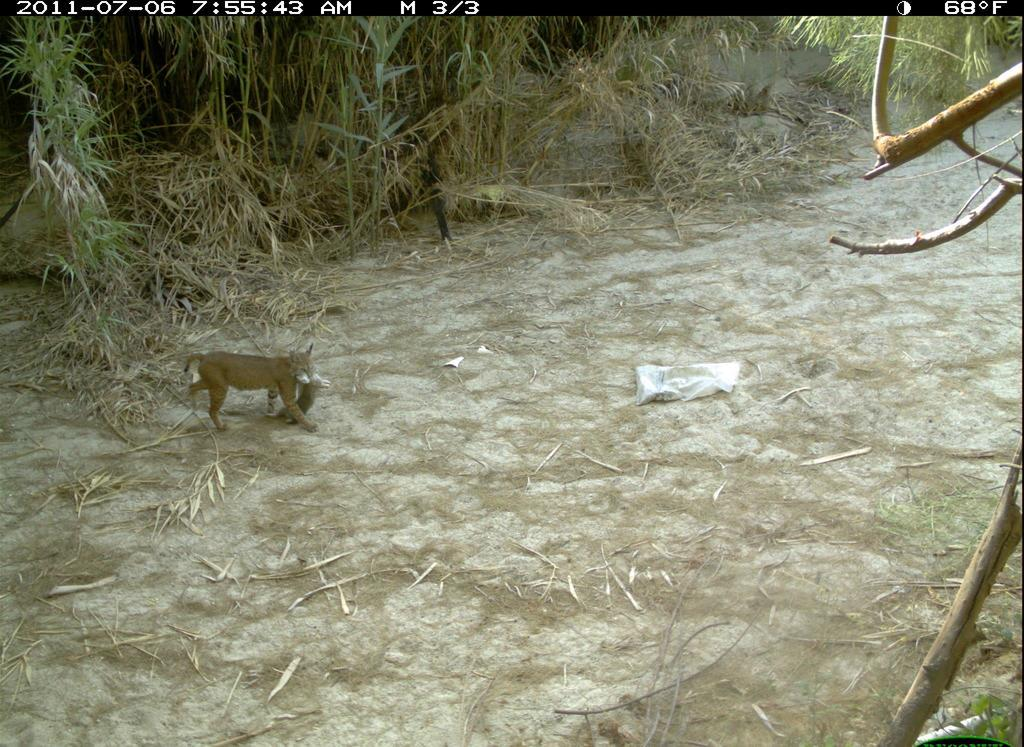rabbit: (265, 371, 333, 428)
